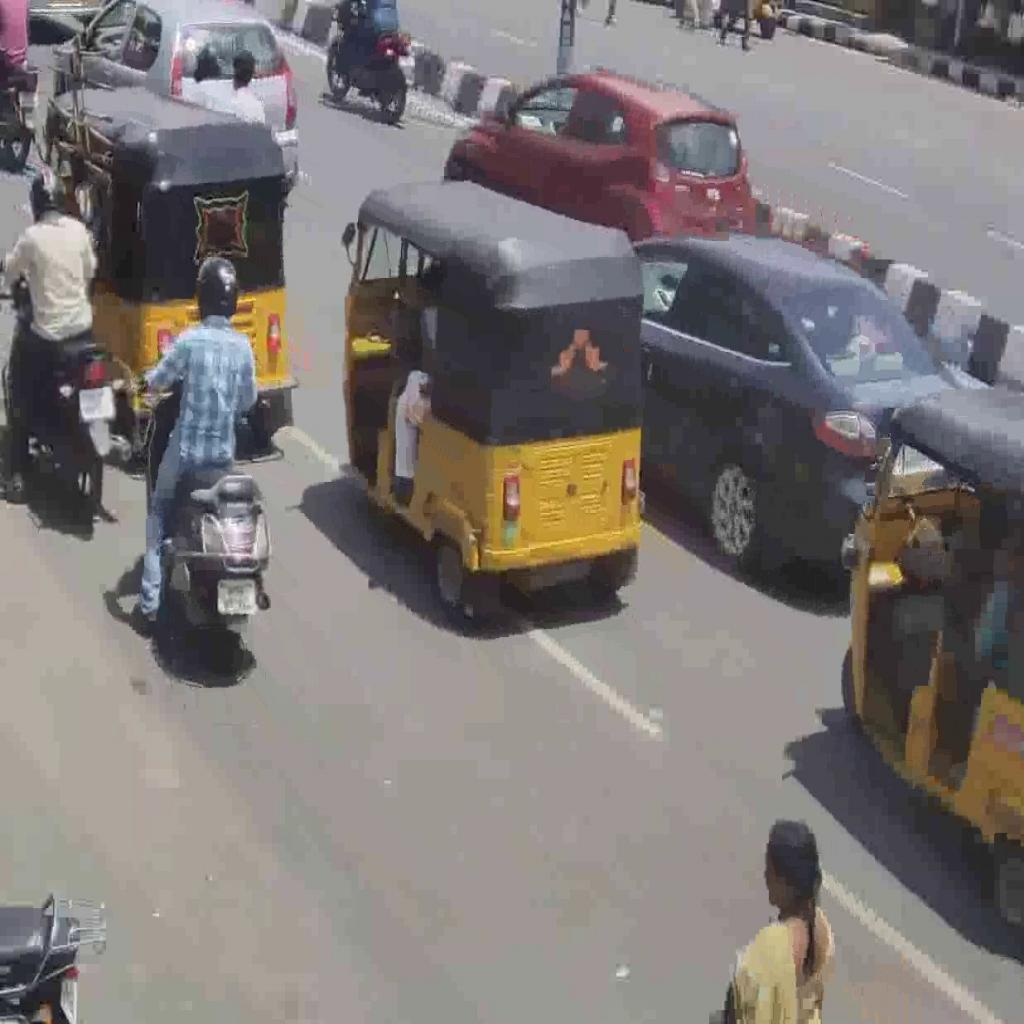helmet: (134, 372, 276, 676), (0, 254, 132, 520)
